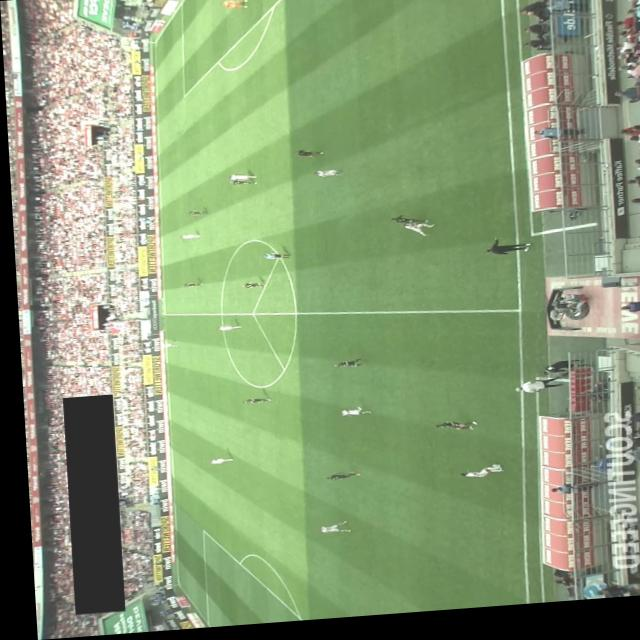goalkeeper: (219, 2, 248, 13)
player: (429, 425, 474, 439), (453, 471, 497, 484), (398, 227, 433, 242), (309, 524, 344, 538), (388, 219, 425, 232), (328, 361, 361, 373), (333, 410, 366, 421), (319, 475, 355, 485), (292, 153, 322, 162), (311, 173, 341, 182), (226, 176, 255, 184), (211, 326, 238, 334), (237, 400, 266, 407), (227, 182, 255, 189), (237, 285, 262, 292), (203, 459, 227, 466), (183, 212, 206, 219), (152, 343, 175, 350), (175, 235, 198, 241), (178, 284, 198, 289)
referee: (259, 255, 287, 263), (138, 219, 159, 227)
